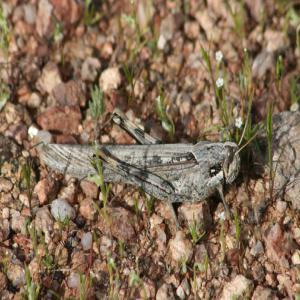locust: (41, 77, 252, 209)
